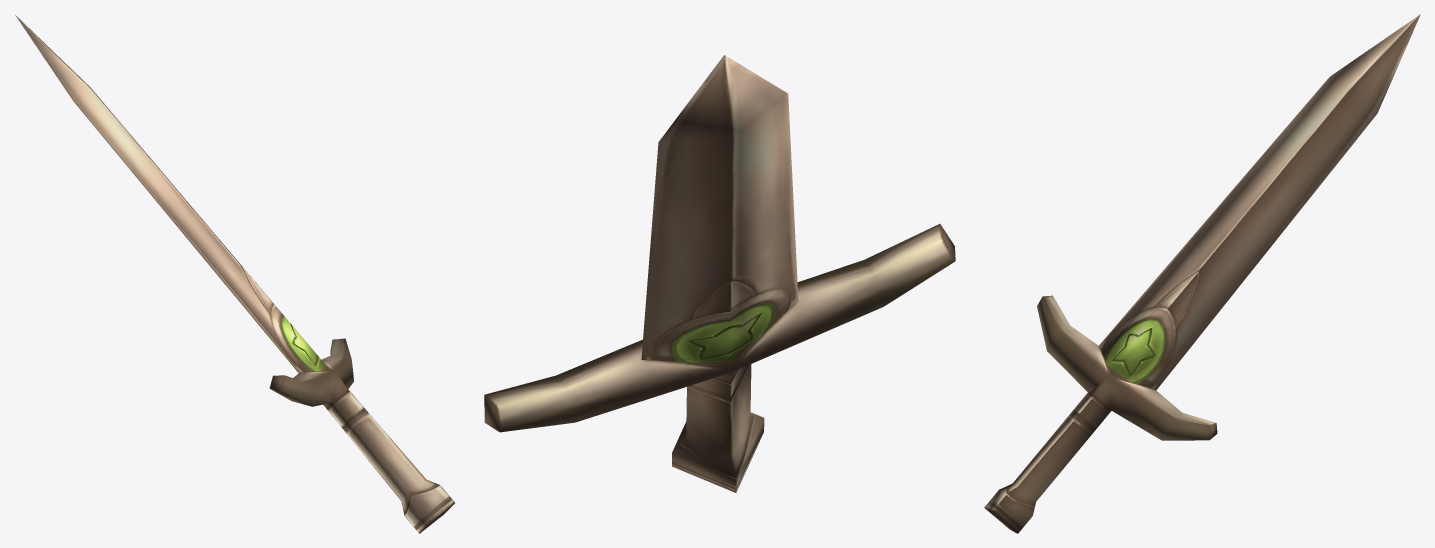
Rendered from Sword(12).obj.
3 views of the same model, side by side, from view 1: azimuth 30°, elevation 25°; view 2: azimuth 150°, elevation 25°; view 3: azimuth 270°, elevation 25° (orthographic). The views are drawn at different scales.
Visible parts, largest first — view 1: sword1_LOD003; view 2: sword1_LOD003; view 3: sword1_LOD003.
Boxes of the visible parts, box(x1,y1,x2,y2) form: sword1_LOD003: box(15, 15, 454, 533); sword1_LOD003: box(484, 55, 955, 492); sword1_LOD003: box(984, 14, 1420, 533).
Size of the model in its own units: 0.547 by 0.9603 by 0.9088.
